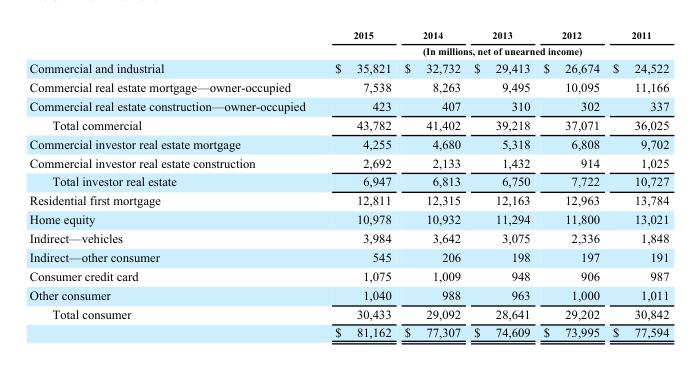table: (28, 29, 668, 338)
table column: (28, 29, 319, 338), (319, 29, 397, 338), (466, 29, 536, 338), (397, 29, 466, 338), (536, 29, 605, 338), (605, 29, 668, 338)
table column header: (28, 29, 668, 58)
table row: (28, 58, 668, 77), (28, 95, 668, 114), (28, 114, 668, 133), (28, 133, 668, 152), (28, 152, 668, 171), (28, 171, 668, 190), (28, 190, 668, 209), (28, 209, 668, 228), (28, 228, 668, 247), (28, 247, 668, 266), (28, 266, 668, 285), (28, 285, 668, 304), (28, 77, 668, 95), (28, 304, 668, 322), (28, 42, 668, 58), (28, 322, 668, 338), (28, 29, 668, 42)
table spanning cell: (319, 42, 668, 58)
